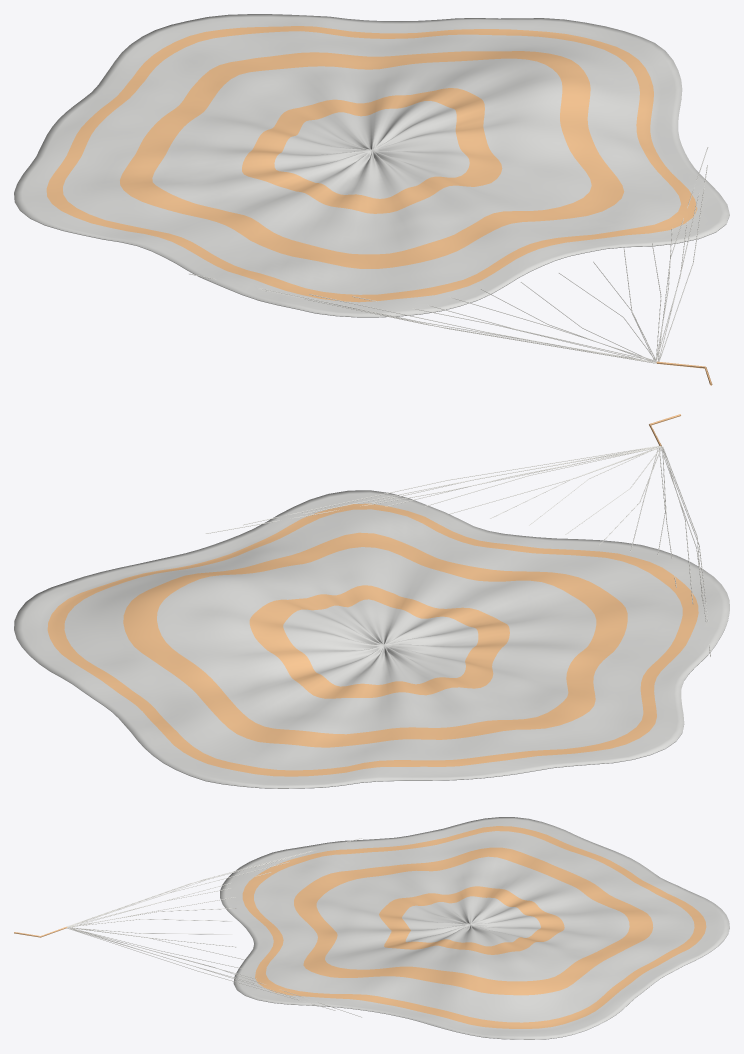
Rendered from parachute.glb.
3 renders of one model, top to bottom at view 1: azimuth 30°, elevation 25°; view 2: azimuth 150°, elevation 25°; view 3: azimuth 270°, elevation 25°, orthographic. The views are drawn at different scales.
Visible parts, largest first — view 1: canopy_fabric; view 2: canopy_fabric; view 3: canopy_fabric.
Part boxes in pixels (left/top/right/bottom): canopy_fabric: left=14, top=14, right=729, bottom=317; canopy_fabric: left=14, top=490, right=729, bottom=788; canopy_fabric: left=220, top=817, right=729, bottom=1039.
Bounding box in the file's own units: 15.08 × 0.6573 × 20.42.
